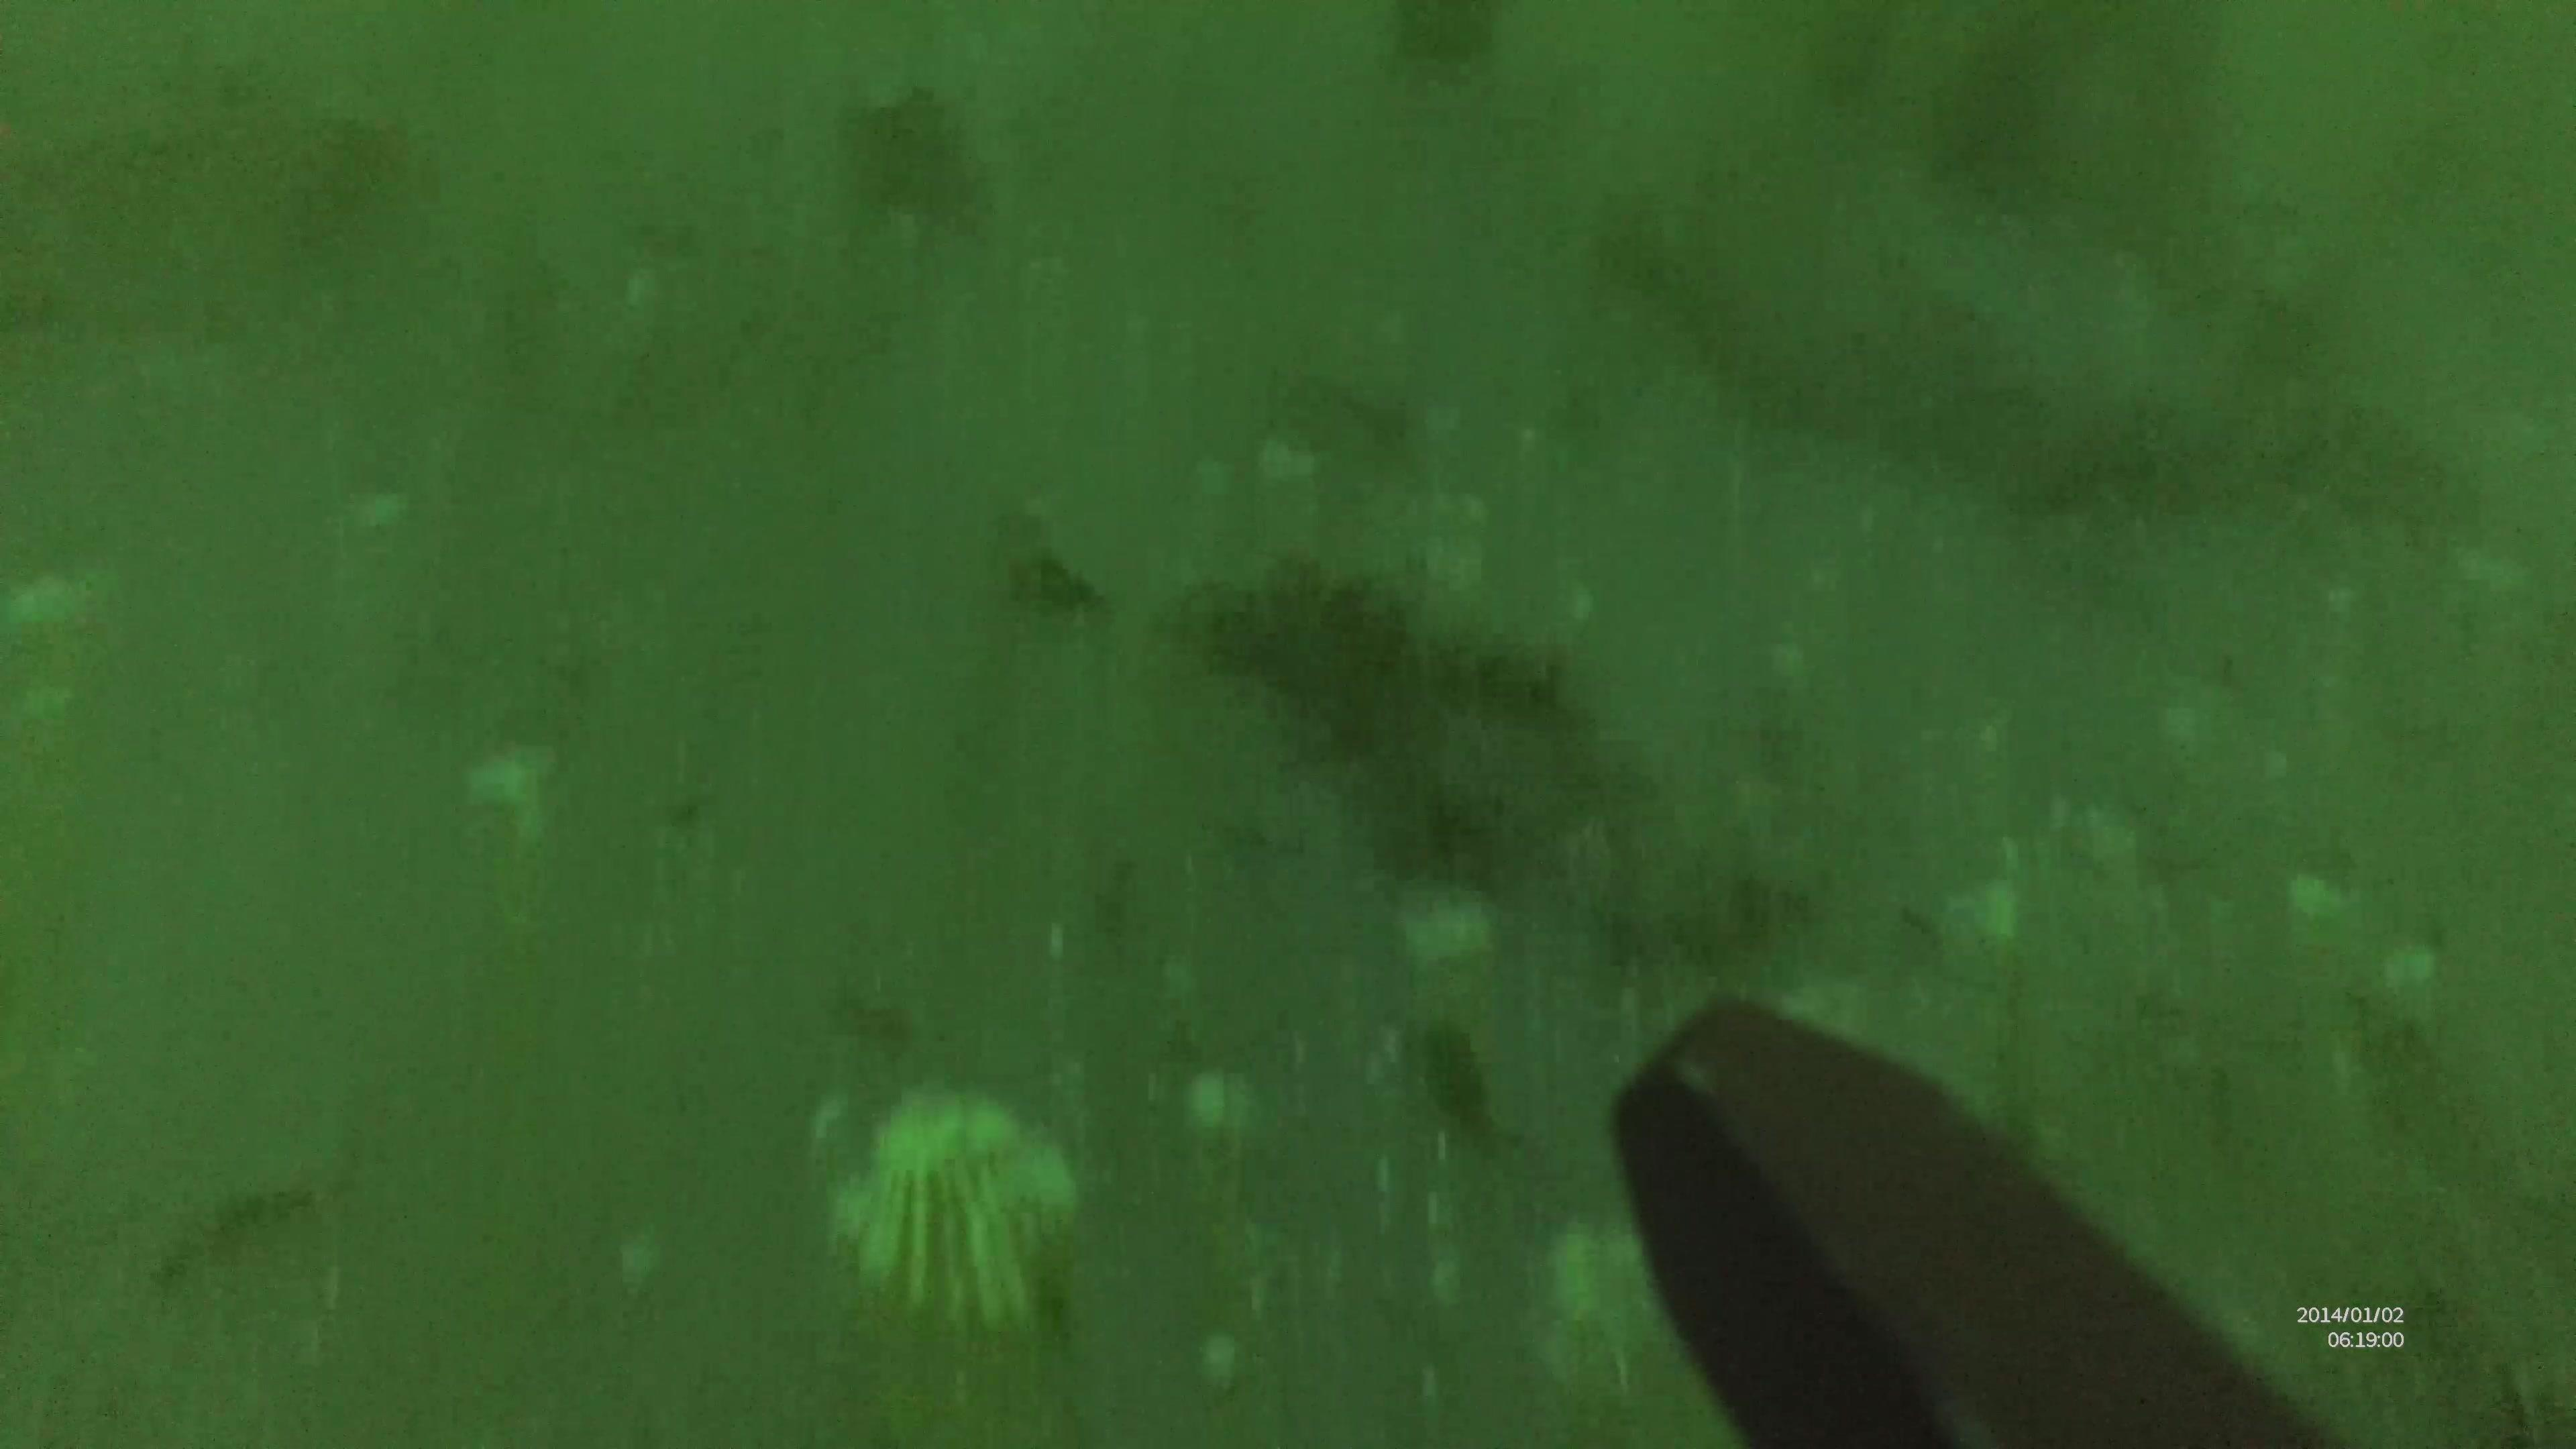holothurian: (1173, 568, 1585, 736)
scallop: (810, 1072, 1095, 1332)
